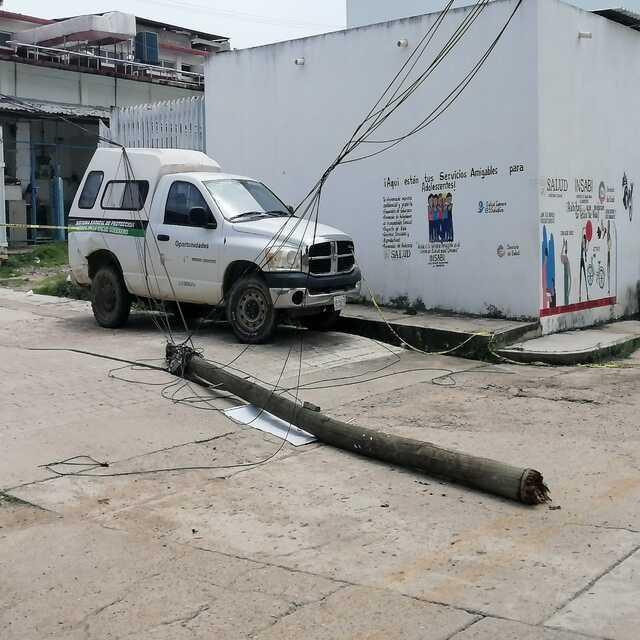Inclined Pole: (154, 343, 551, 510)
